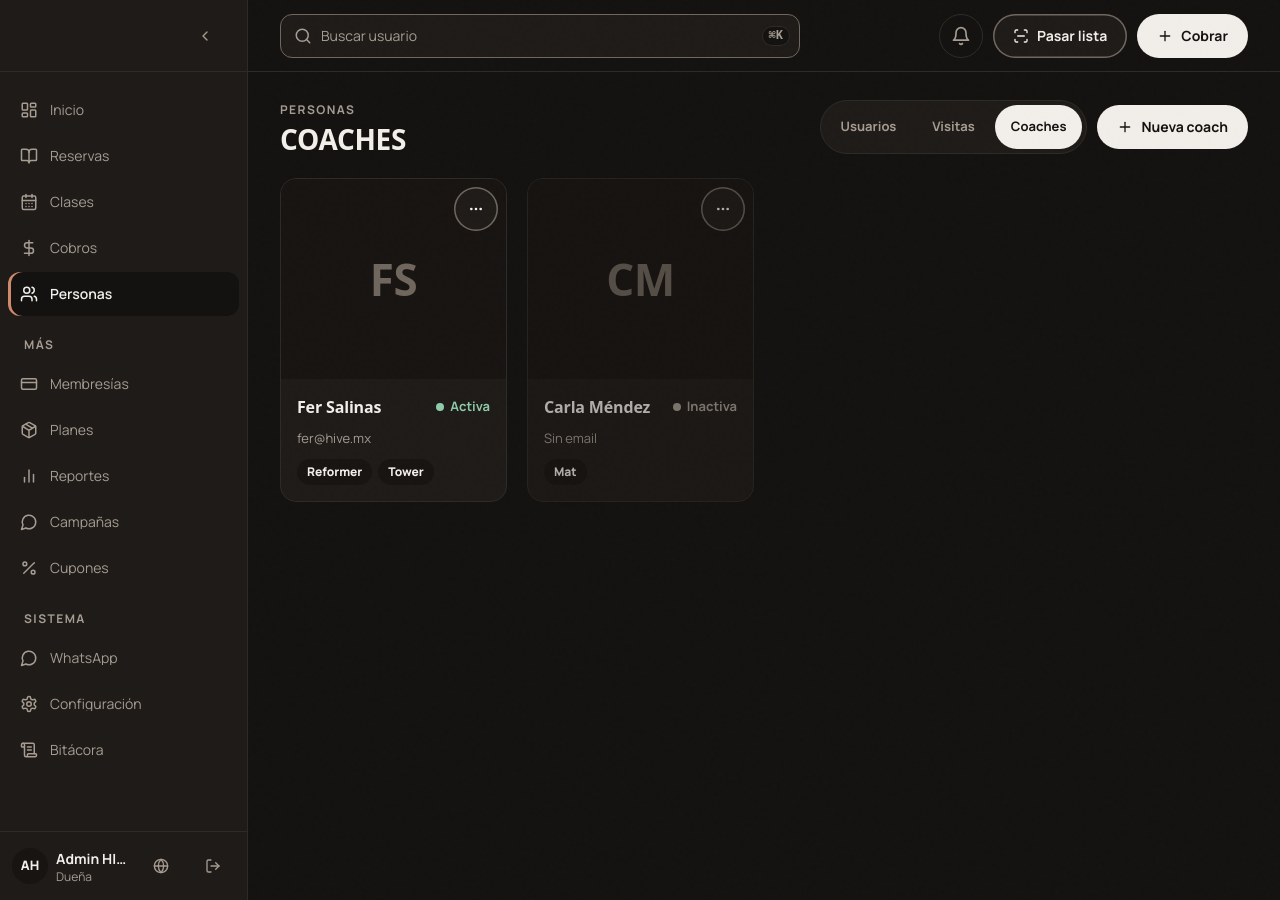
Scenario: Personas · Coaches › una tarjeta por coach con especialidades y estado
Check: the text "Reformer" is shown, box [297,458,372,484]
Check: the text "Activa" is shown, box [436,397,490,417]
Press Enter in the button named "Acciones de Fer Salinas", box [454,187,498,231]
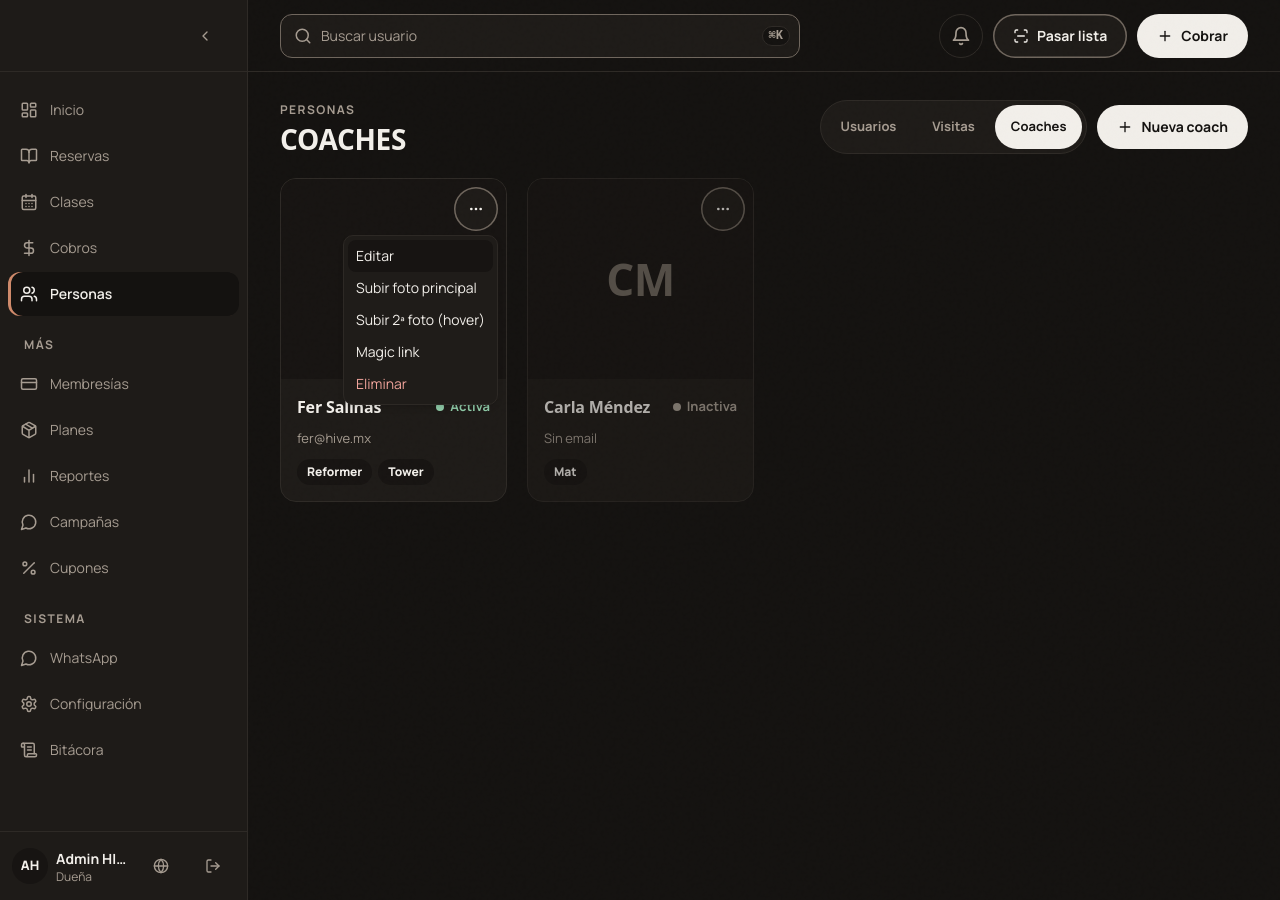
Click the menu item "Editar": x=420, y=256 [348,240,493,272]
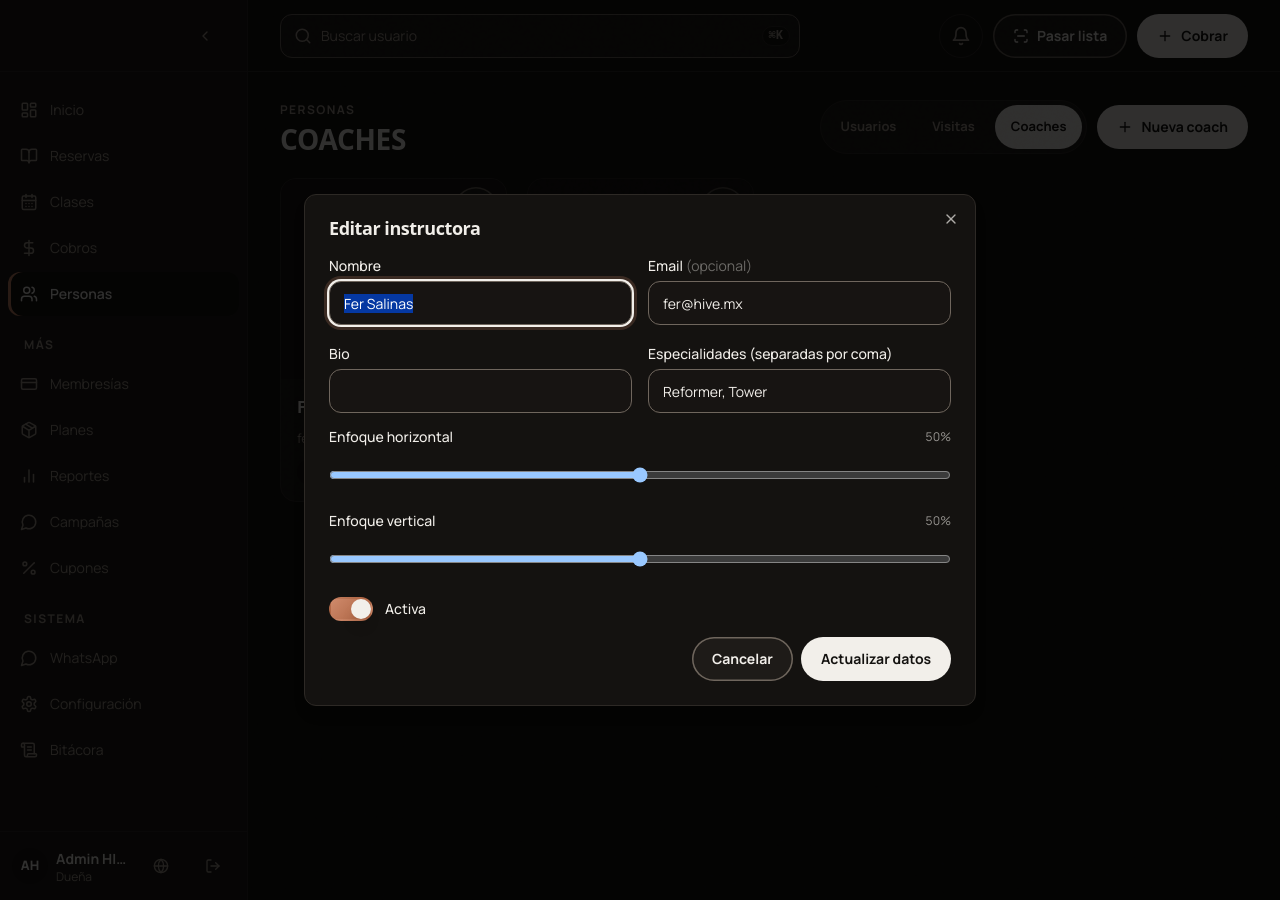
Check: the heading "Editar instructora" is shown, box [329,216,480,240]
